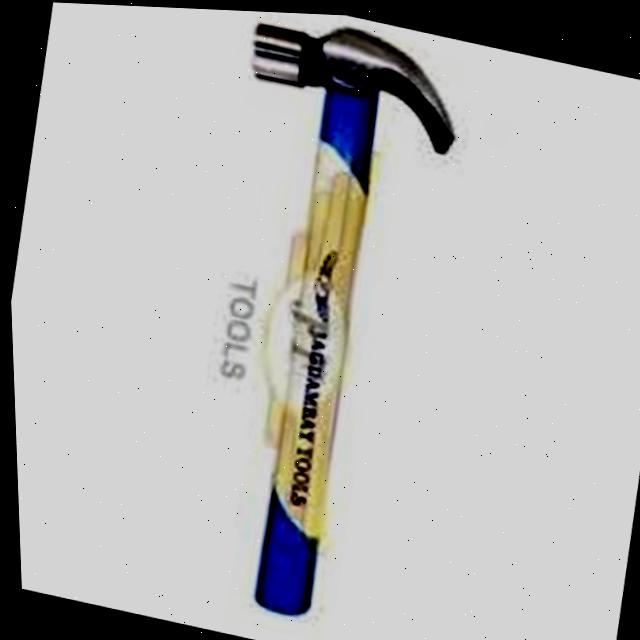hammer: (198, 7, 481, 309)
